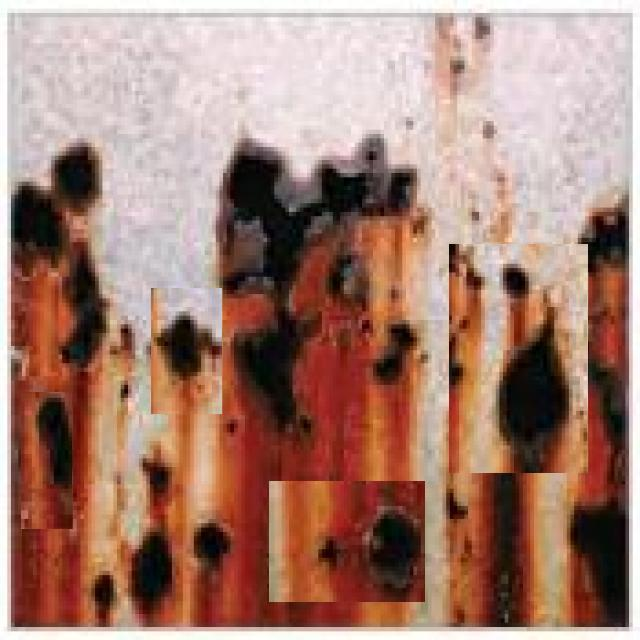Corrosion: (9, 13, 630, 629)
